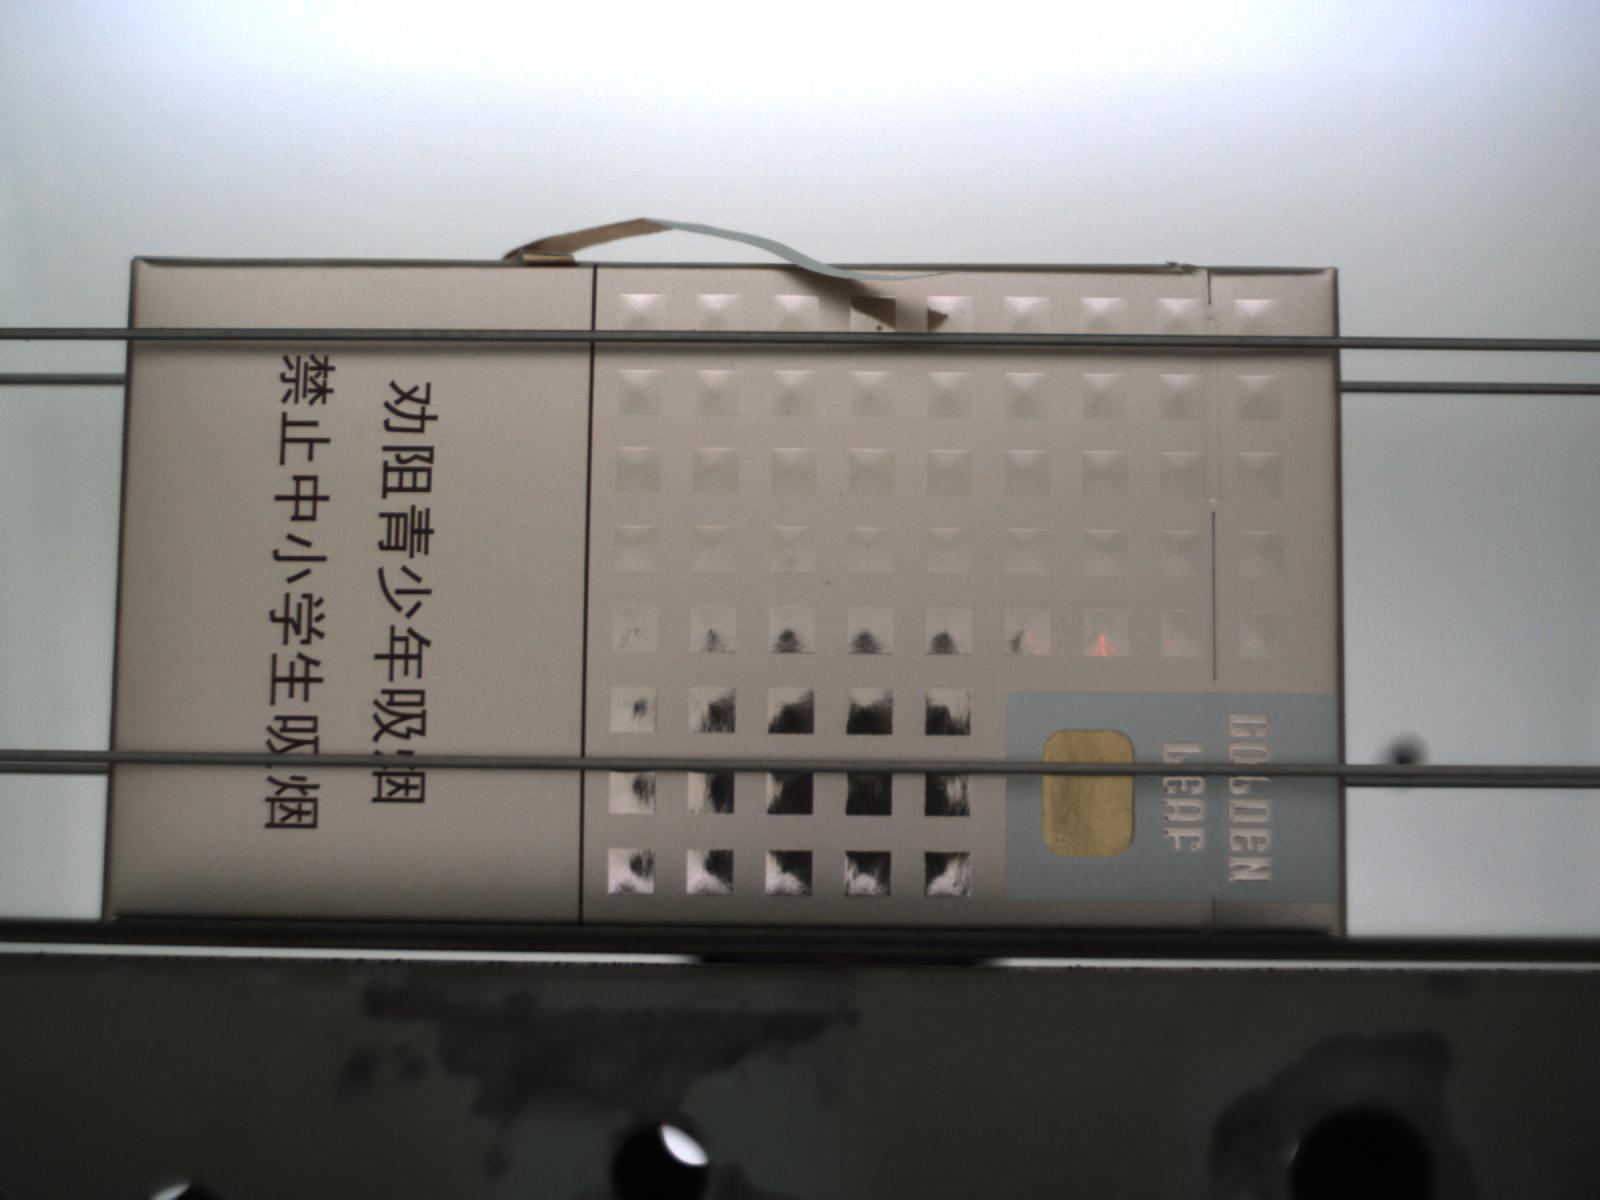cornerBreak: (498, 216, 918, 299)
dirtySpot: (823, 579, 834, 587)
